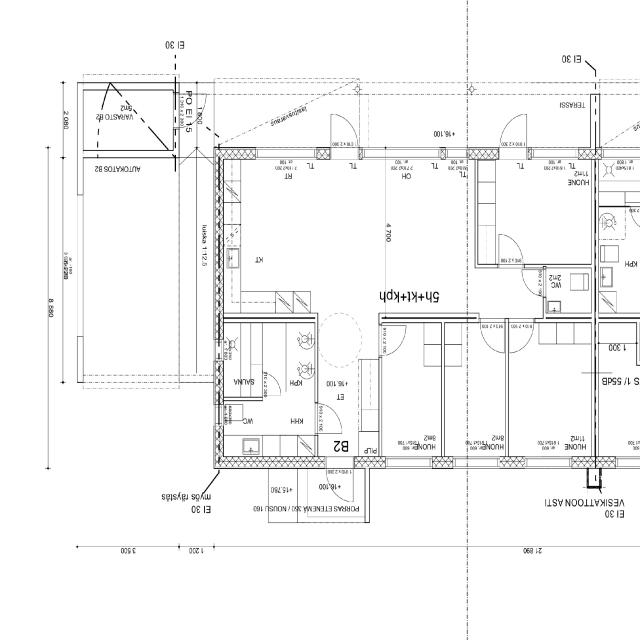door: (497, 110, 530, 160), (328, 110, 359, 160), (496, 229, 526, 268), (506, 317, 536, 356), (478, 316, 507, 355), (378, 321, 408, 357), (316, 400, 344, 435), (519, 265, 547, 298), (262, 371, 284, 397), (627, 202, 640, 234)
window: (256, 145, 321, 163), (530, 143, 583, 164), (389, 147, 448, 165), (385, 454, 434, 470), (612, 454, 640, 472), (212, 336, 222, 369), (212, 399, 222, 426), (172, 93, 178, 131)
zone: (382, 160, 472, 314), (506, 319, 595, 465), (490, 158, 594, 266), (379, 326, 444, 460), (594, 327, 640, 466), (88, 88, 176, 152), (596, 202, 640, 316), (262, 318, 317, 402), (220, 398, 281, 464), (220, 321, 265, 402), (543, 265, 591, 317), (596, 153, 640, 206), (596, 319, 640, 371), (173, 89, 204, 141)
